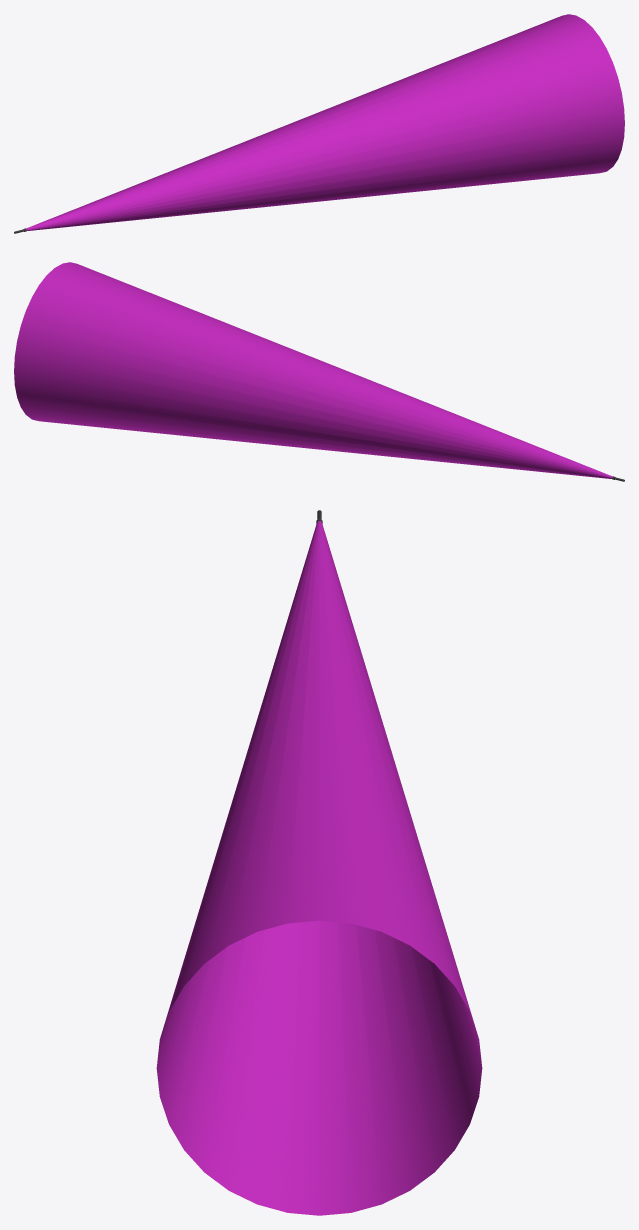
Rendered from uvlight.fbx.
The picture shows the model from 3 angles, top to bottom: view 1: azimuth 30°, elevation 25°; view 2: azimuth 150°, elevation 25°; view 3: azimuth 270°, elevation 25°; orthographic projection. The views are drawn at different scales.
Parts seen in each view (by area): view 1: Circle.001; view 2: Circle.001; view 3: Circle.001.
Boxes of the visible parts, bbox=[...] form: Circle.001: bbox=[26, 14, 624, 230]; Circle.001: bbox=[14, 262, 612, 478]; Circle.001: bbox=[156, 521, 482, 1215].
Bounding box in the file's own units: 40420 × 10000 × 10000.
